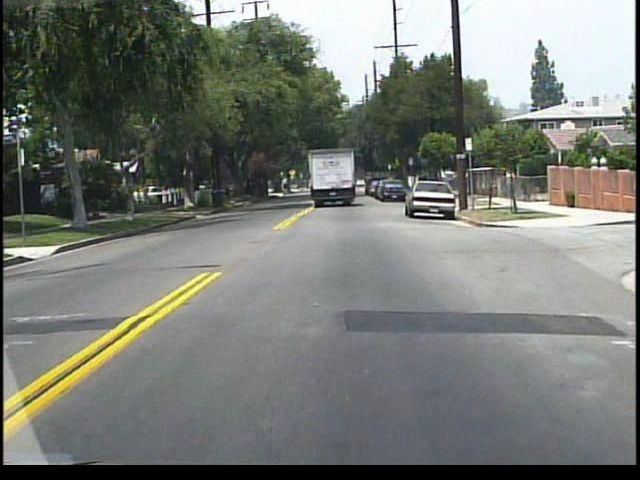person: (501, 165, 516, 200)
